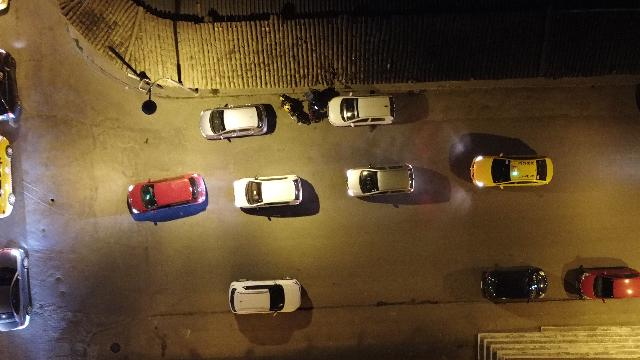Vehiculo: (126, 173, 208, 221), (200, 103, 276, 141), (471, 154, 554, 188), (0, 248, 32, 331), (229, 278, 301, 314), (564, 266, 640, 300), (480, 266, 548, 304), (234, 174, 302, 210), (346, 163, 414, 197), (327, 95, 395, 127), (0, 49, 19, 120), (0, 136, 15, 219)
